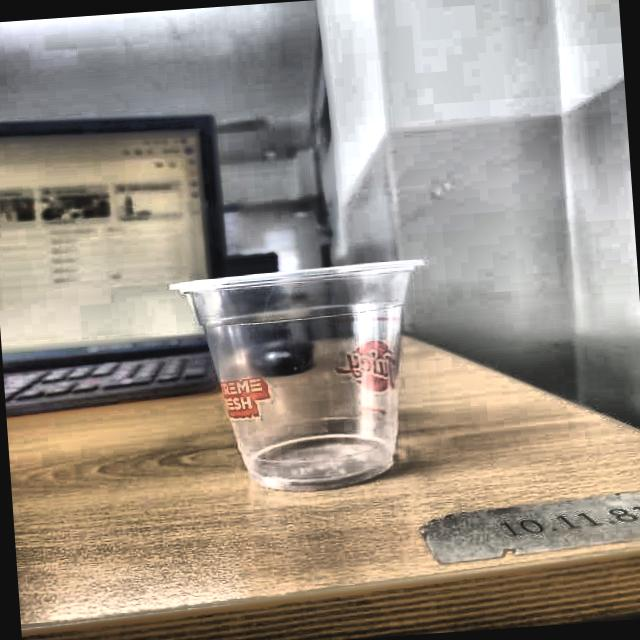plastic cup: (165, 258, 438, 499)
